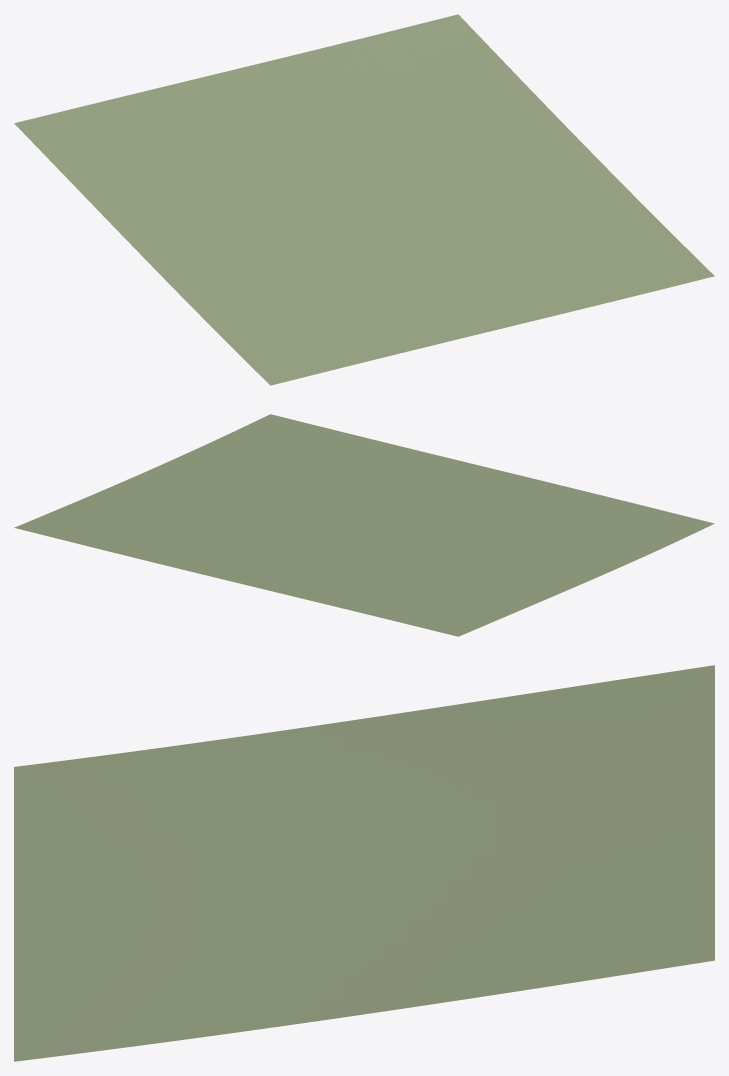
File: desert-28-11.glb
3 renders of one model, top to bottom at view 1: azimuth 30°, elevation 25°; view 2: azimuth 150°, elevation 25°; view 3: azimuth 270°, elevation 25°, orthographic. The views are drawn at different scales.
Parts seen in each view (by area): view 1: desert-28-11; view 2: desert-28-11; view 3: desert-28-11.
Boxes of the visible parts, x1,y1,x2,y2 form: desert-28-11: [14, 14, 714, 385]; desert-28-11: [14, 414, 714, 636]; desert-28-11: [14, 665, 714, 1061].
Bounding box in the file's own units: 512 × 82.73 × 512.
